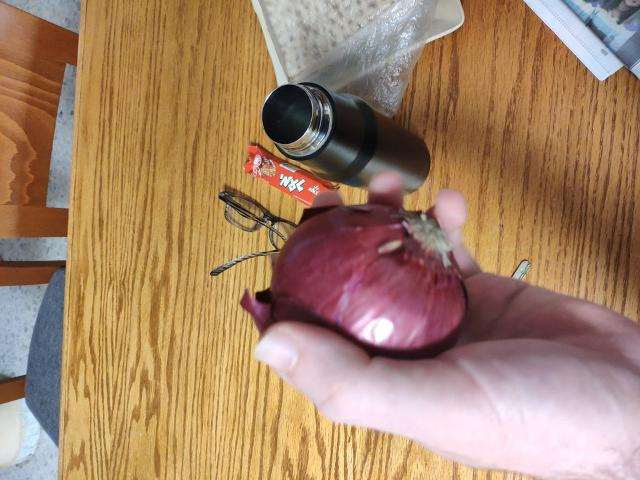onion: (274, 221, 451, 367)
